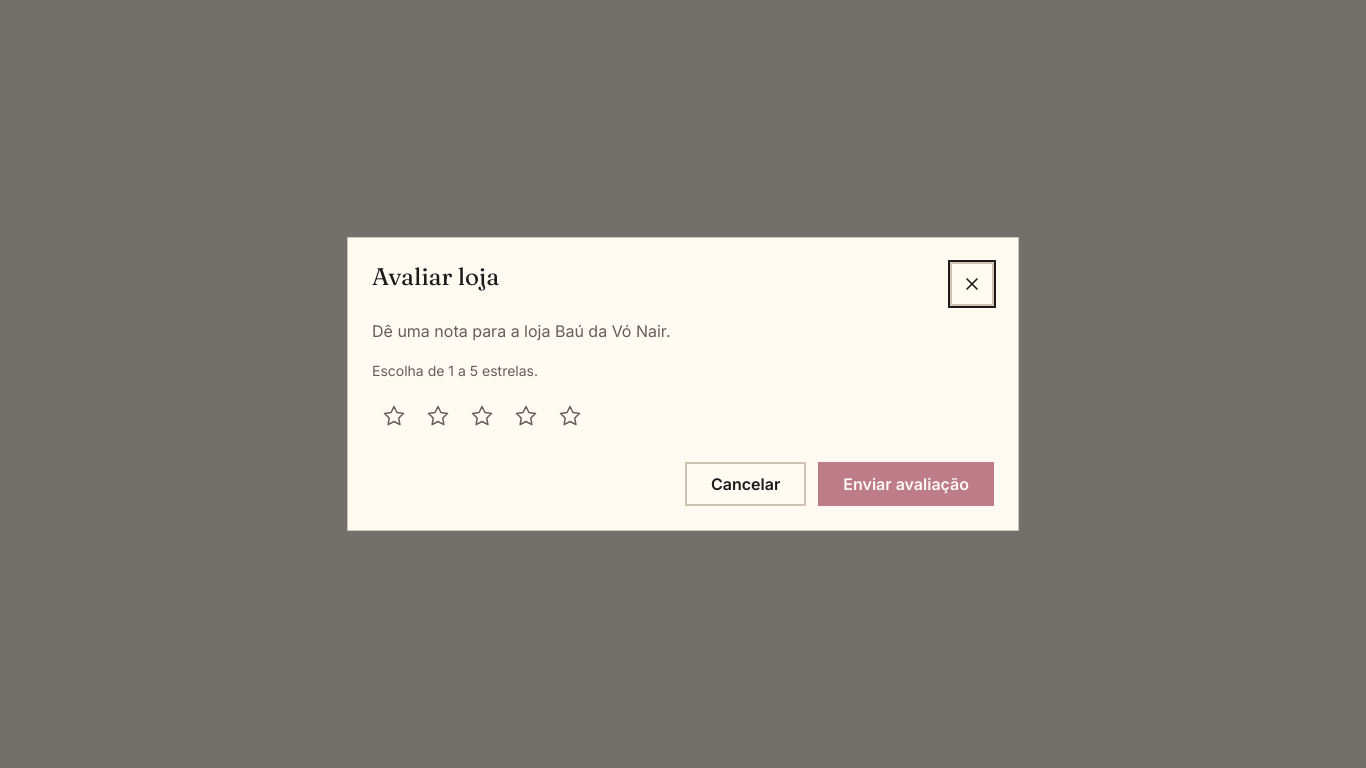
Test: <RateStoreDialog /> › "Enviar avaliação" só habilita depois de escolher a nota
Expected: the button "Enviar avaliação" is disabled, [818, 462, 994, 506]
Click the radio button named "4 de 5 estrelas" at (526, 416), box [504, 394, 548, 438]
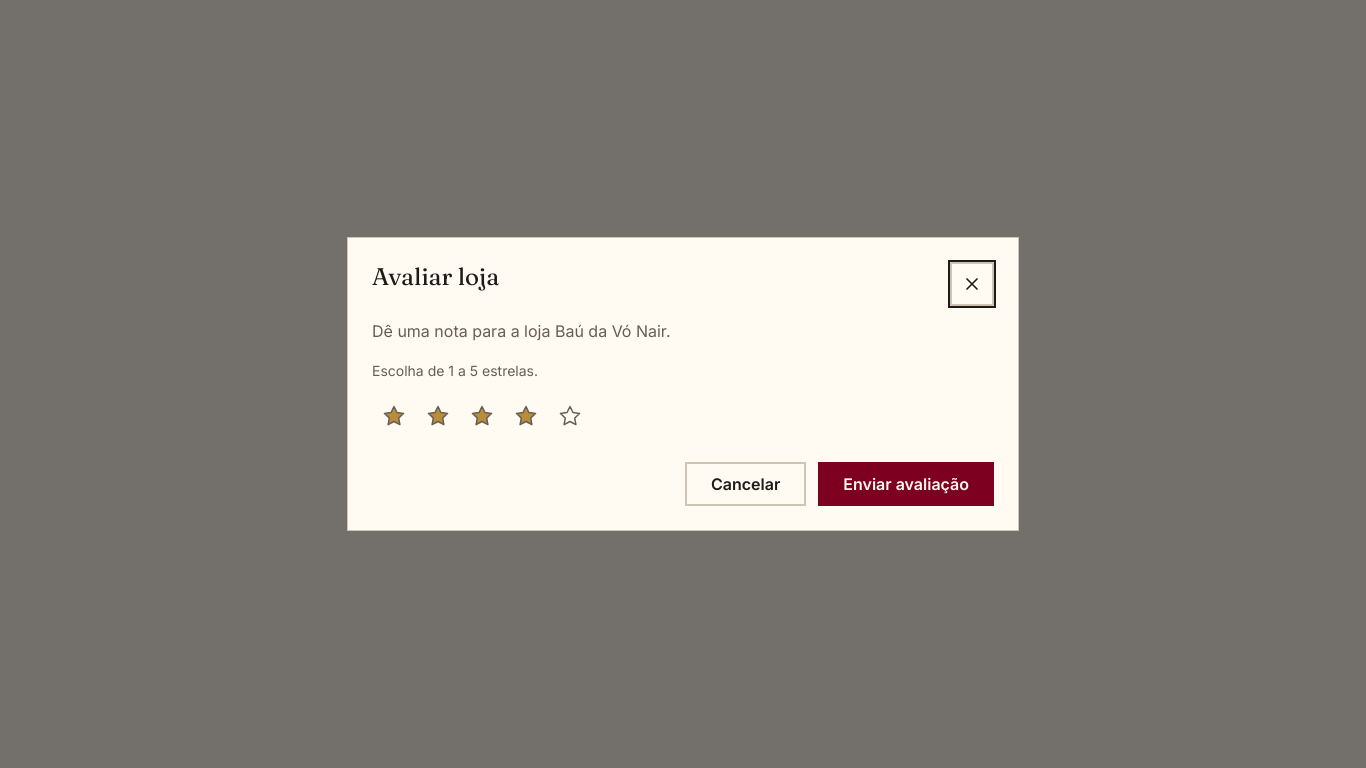
Now the button "Enviar avaliação" is enabled, box [818, 462, 994, 506]
